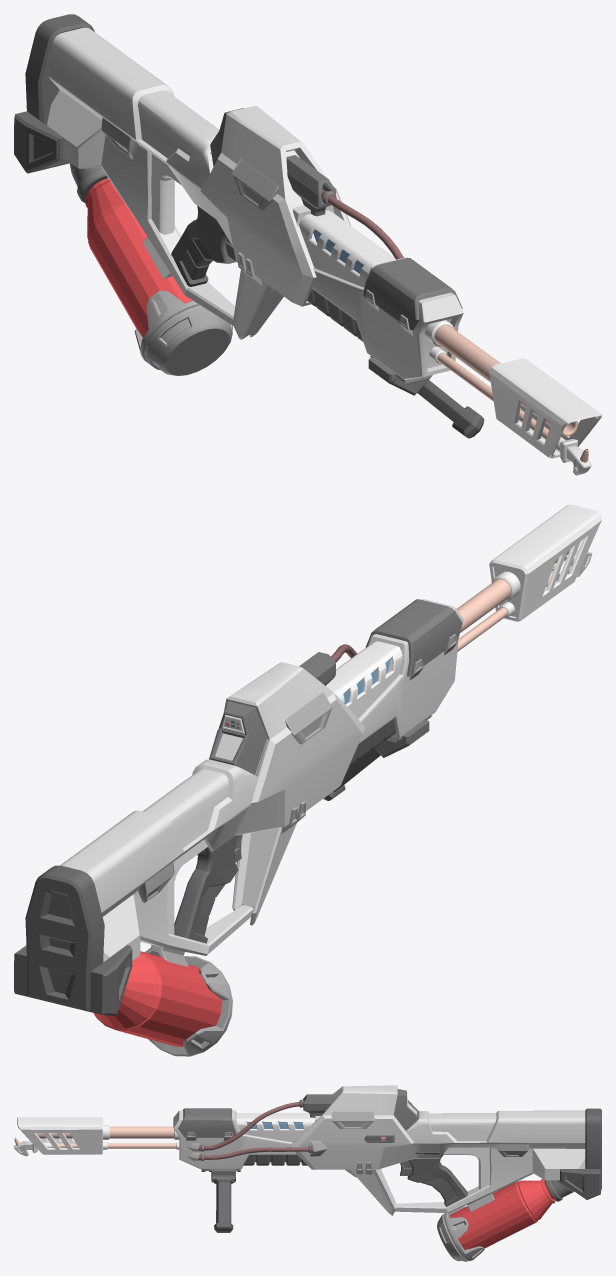
File: Flamethrower_SM.fbx
The picture shows the model from 3 angles, top to bottom: view 1: azimuth 30°, elevation 25°; view 2: azimuth 150°, elevation 25°; view 3: azimuth 270°, elevation 25°; orthographic projection. The views are drawn at different scales.
Parts seen in each view (by area): view 1: Frame, HandguardFrame, Fuel_Tank, Muzzle, Fuel_Tank_Base, Buttstock, HandguardUpper01, HandguardUpper02, Trigger_Guard, Hand_Grip, Barrel, Thumb_Guard (+9 smaller); view 2: Frame, Buttstock, Fuel_Tank, Muzzle, HandguardFrame, Trigger_Guard, HandguardUpper02, Hand_Grip, HandguardUpper01, Ammo_Counter, Fuel_Tank_Base, Barrel (+3 smaller); view 3: Frame, Fuel_Tank, Muzzle, HandguardFrame, Buttstock, Hand_Grip, HandguardUpper01, HandguardUpper02, Barrel, Trigger_Guard, Fuel_Tank_Base, Foregrip (+10 smaller).
Boxes of the visible parts, bbox=[...] form: Frame: bbox=[46, 27, 350, 306]; HandguardFrame: bbox=[292, 205, 463, 379]; Fuel_Tank: bbox=[85, 178, 192, 337]; Muzzle: bbox=[489, 358, 601, 458]; Fuel_Tank_Base: bbox=[134, 290, 232, 375]; Buttstock: bbox=[14, 14, 94, 173]; HandguardUpper01: bbox=[299, 210, 395, 287]; HandguardUpper02: bbox=[363, 257, 462, 330]; Trigger_Guard: bbox=[185, 269, 283, 339]; Hand_Grip: bbox=[171, 206, 235, 286]; Barrel: bbox=[434, 325, 578, 439]; Thumb_Guard: bbox=[151, 154, 181, 234]; Frame: bbox=[60, 662, 364, 961]; Buttstock: bbox=[14, 865, 132, 1015]; Fuel_Tank: bbox=[93, 951, 222, 1046]; Muzzle: bbox=[489, 504, 601, 621]; HandguardFrame: bbox=[358, 599, 463, 743]; Trigger_Guard: bbox=[204, 823, 296, 953]; HandguardUpper02: bbox=[365, 599, 462, 676]; Hand_Grip: bbox=[174, 835, 238, 943]; HandguardUpper01: bbox=[326, 641, 402, 718]; Ammo_Counter: bbox=[209, 702, 266, 775]; Fuel_Tank_Base: bbox=[148, 956, 232, 1056]; Barrel: bbox=[457, 549, 570, 651]; Frame: bbox=[289, 1085, 585, 1212]; Fuel_Tank: bbox=[450, 1179, 555, 1249]; Muzzle: bbox=[17, 1117, 102, 1154]; HandguardFrame: bbox=[173, 1110, 320, 1169]; Buttstock: bbox=[560, 1108, 601, 1199]; Hand_Grip: bbox=[407, 1154, 467, 1206]; HandguardUpper01: bbox=[236, 1113, 315, 1142]; HandguardUpper02: bbox=[178, 1108, 236, 1137]; Barrel: bbox=[36, 1126, 176, 1148]; Trigger_Guard: bbox=[350, 1169, 447, 1215]; Fuel_Tank_Base: bbox=[437, 1206, 484, 1261]; Foregrip: bbox=[214, 1179, 233, 1232].
Size of the model in its own units: 2.46 by 5.77 by 18.03.
